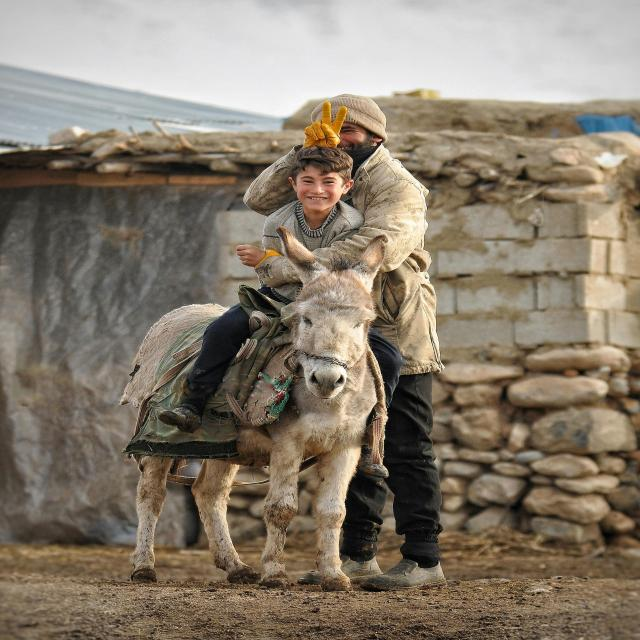sit: (218, 144, 369, 377)
stand: (291, 84, 464, 598)
